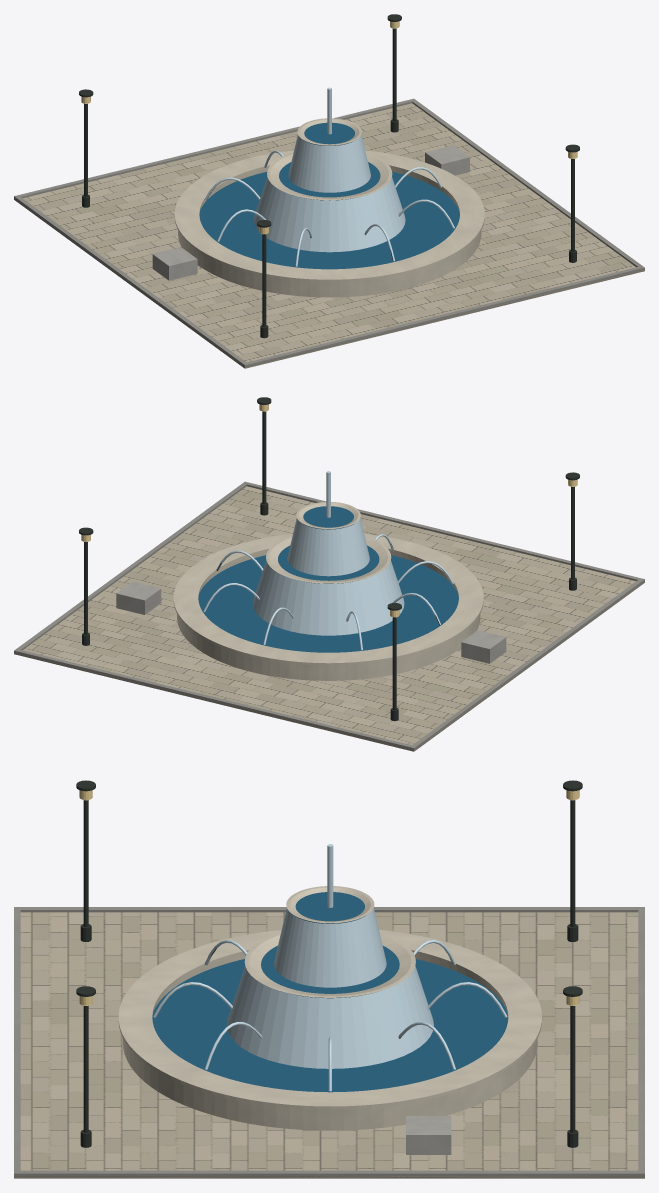
Rendered from dum_0a_fontana.glb.
3 views of the same model, one above another, from view 1: azimuth 30°, elevation 25°; view 2: azimuth 150°, elevation 25°; view 3: azimuth 270°, elevation 25° (orthographic). The views are drawn at different scales.
Parts seen in each view (by area): view 1: dum; view 2: dum; view 3: dum.
Part boxes in pixels (x1,y1,x2,y2): dum: (14,14,644,368); dum: (14,397,644,751); dum: (14,780,644,1178).
Bounding box in the file's own units: 13.96 × 4.89 × 13.96.
1 material, 1 textured.
